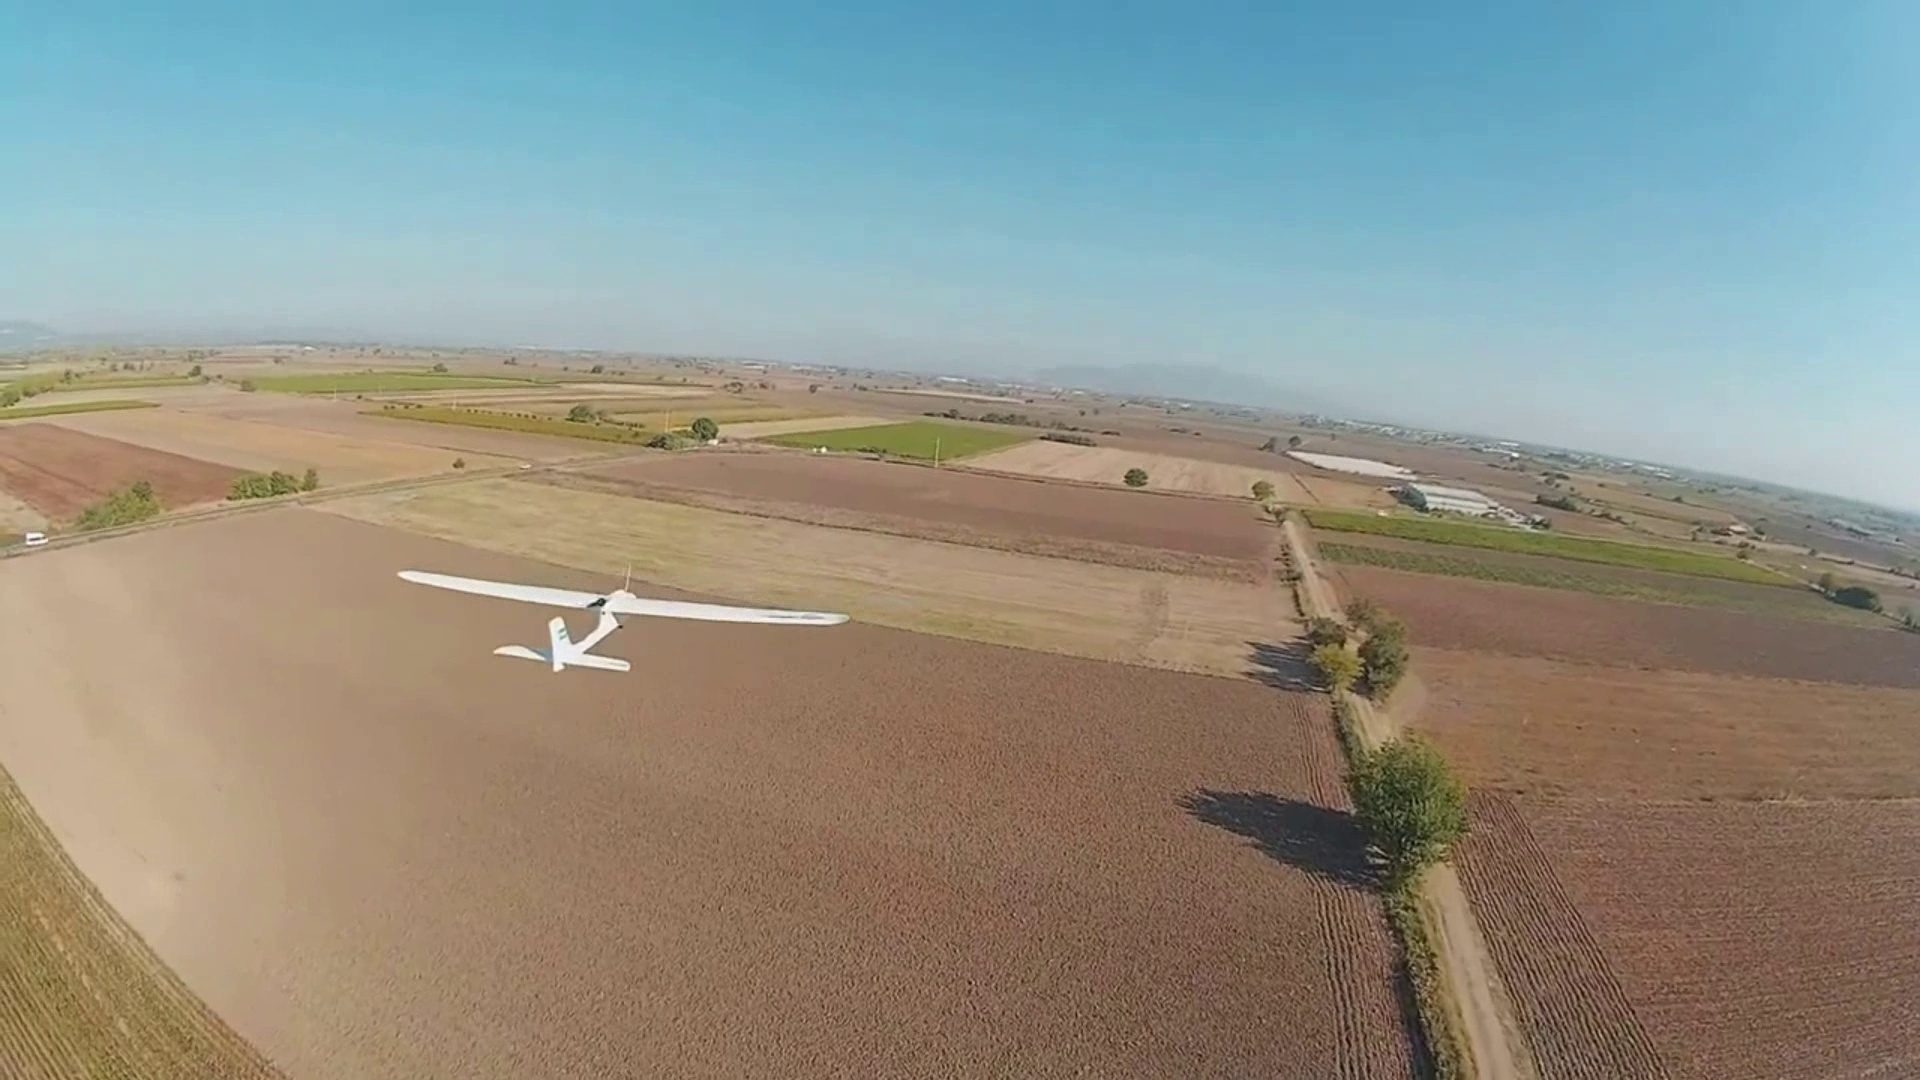airplane: (397, 570, 848, 677), (490, 592, 633, 675)
